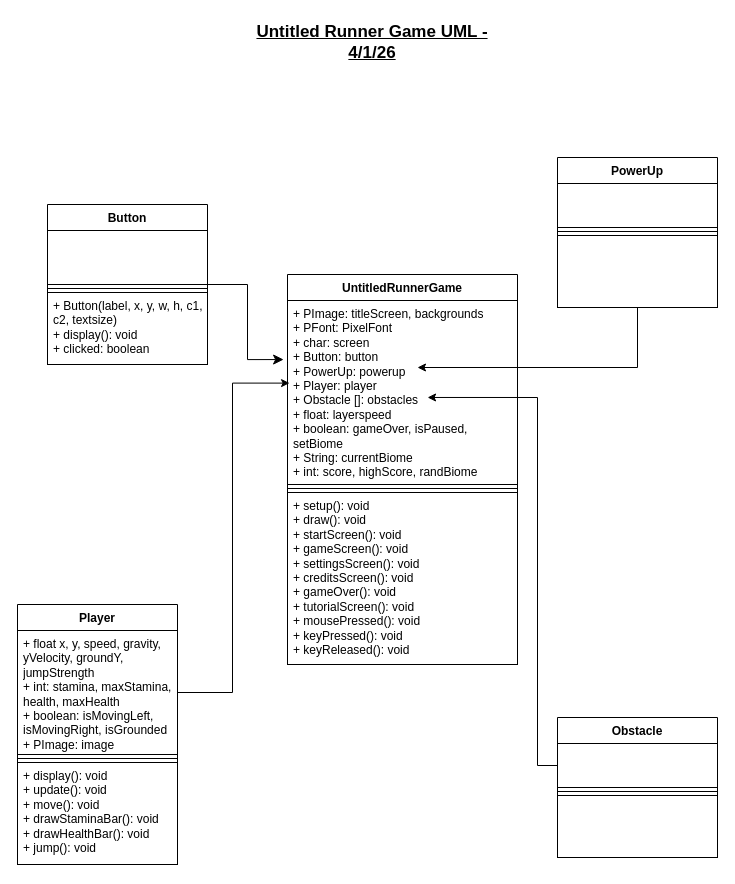
Some shapes in this 735 by 884 pixel diagram are drawn without their labels. Here are the shapes that lost their labels. From the top down, the centre of each, then its label:
At pixel 637 205: "+ PImage: image + int: x, y".
At pixel 127 257: "+ String: label + float: x, y, w, h, textsize + color: c1, c2".
At pixel 637 271: "+ PowerUp(x, y) + display(): void + intersection(Player p): void".
At pixel 637 765: "+ float: x, y + PImage: image".
At pixel 637 826: "+ Obstacle(x, y) + display(): void + intersect(): boolean".
